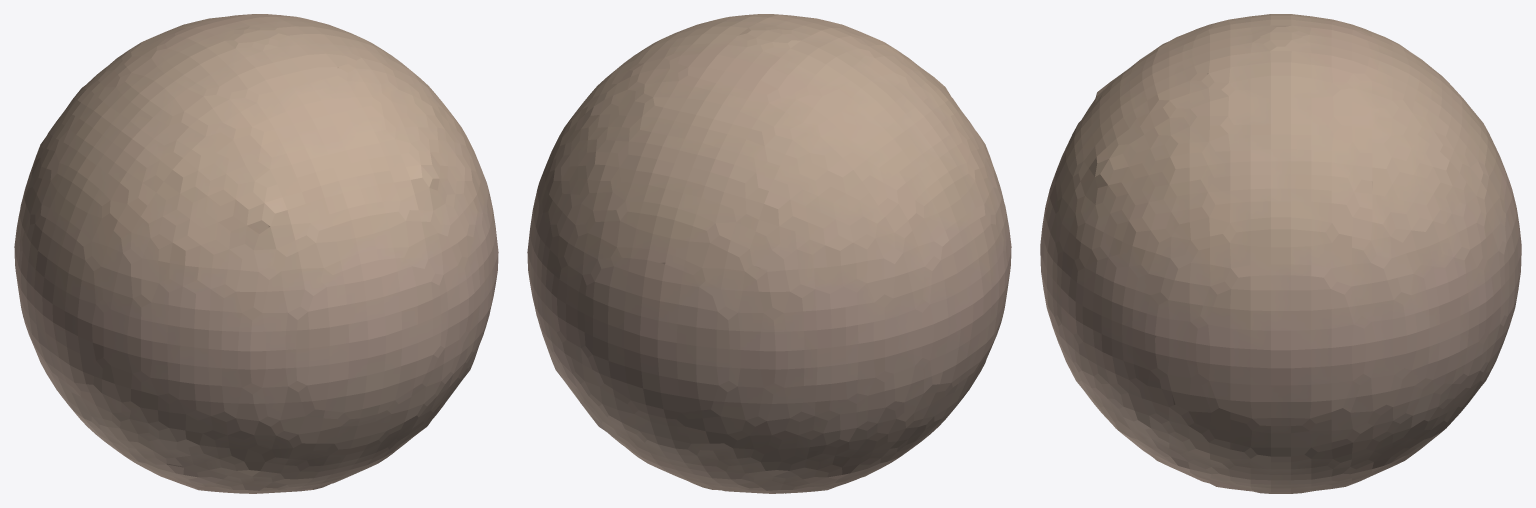
File: blueSlime.glb
The picture shows the model from 3 angles, left to right: view 1: azimuth 30°, elevation 25°; view 2: azimuth 150°, elevation 25°; view 3: azimuth 270°, elevation 25°; orthographic projection.
Parts seen in each view (by area): view 1: geometry_0; view 2: geometry_0; view 3: geometry_0.
Part boxes in pixels (<box>): geometry_0: <box>14,14,498,493</box>; geometry_0: <box>527,14,1011,493</box>; geometry_0: <box>1040,14,1521,493</box>.
Size of the model in its own units: 1.02 by 0.9937 by 1.02.
Materials: 1 (1 with a texture image).
